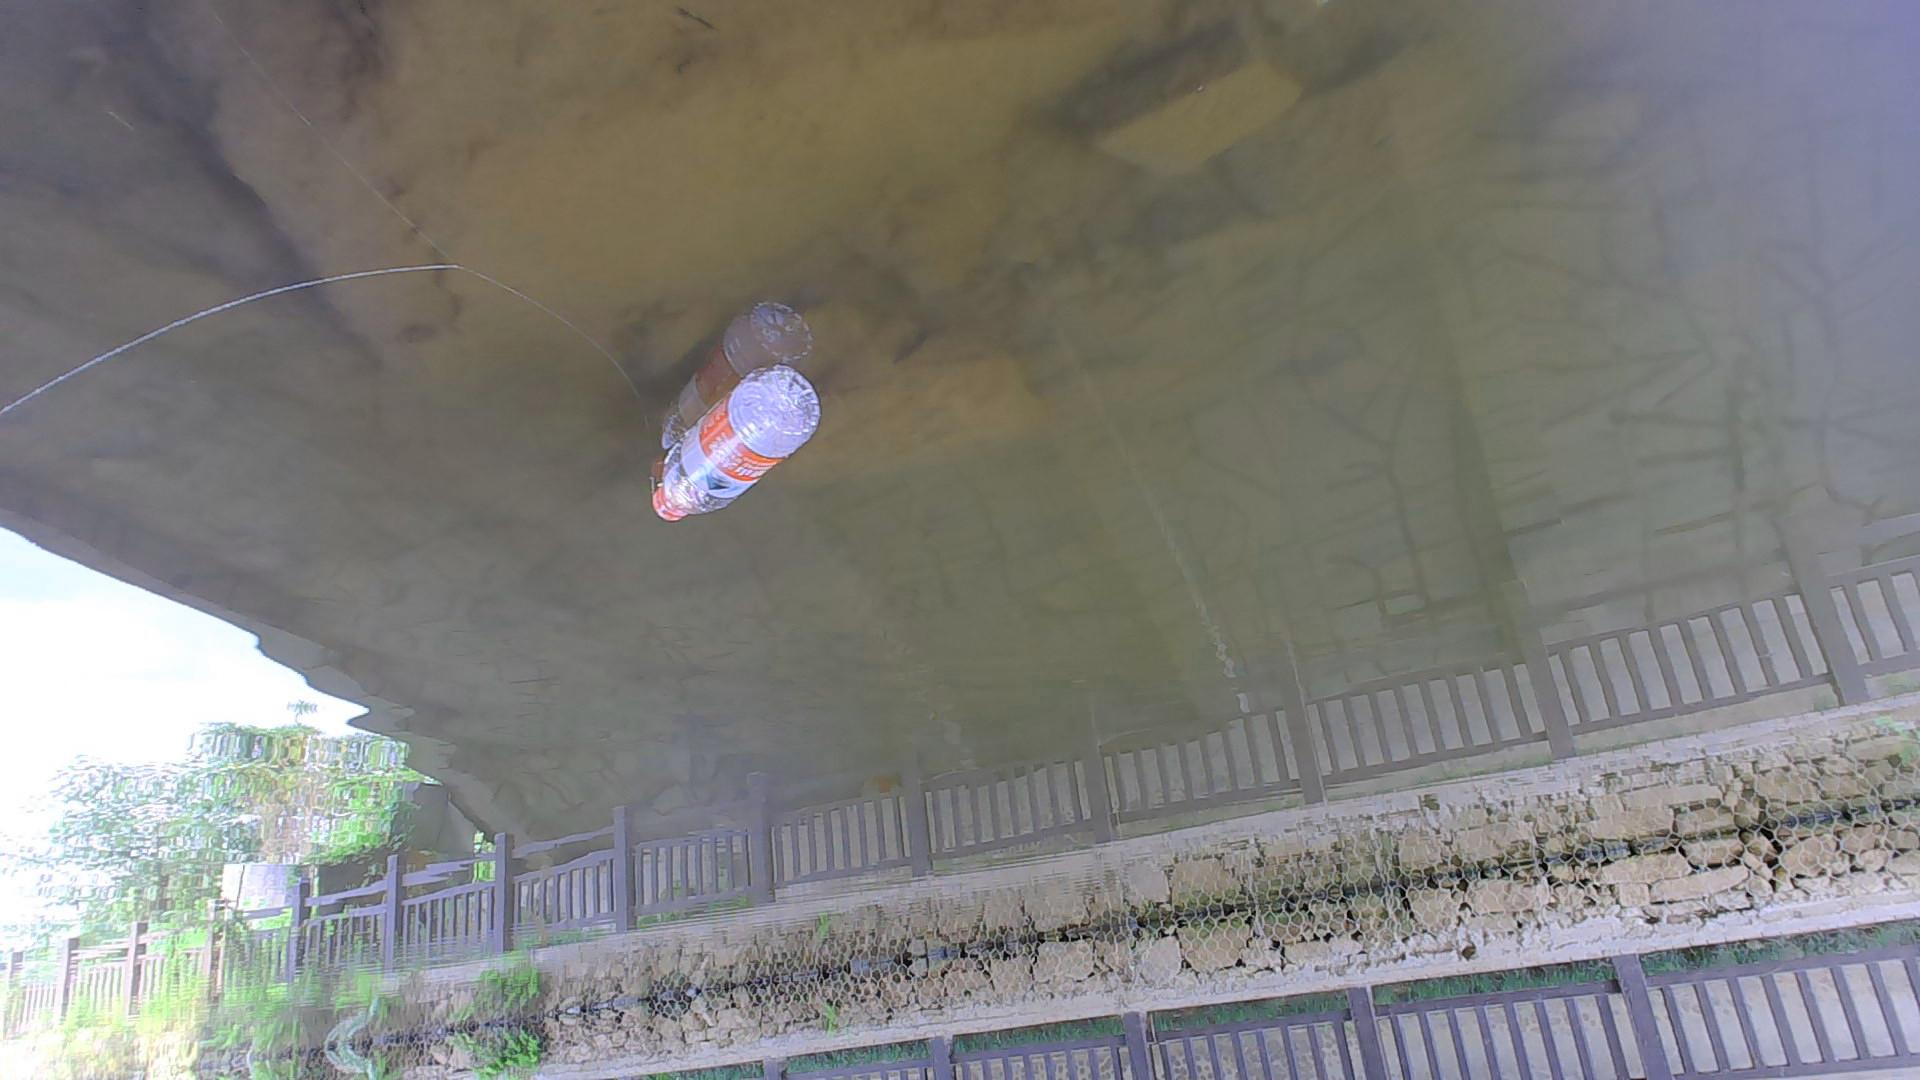Plastic: (645, 364, 819, 533)
